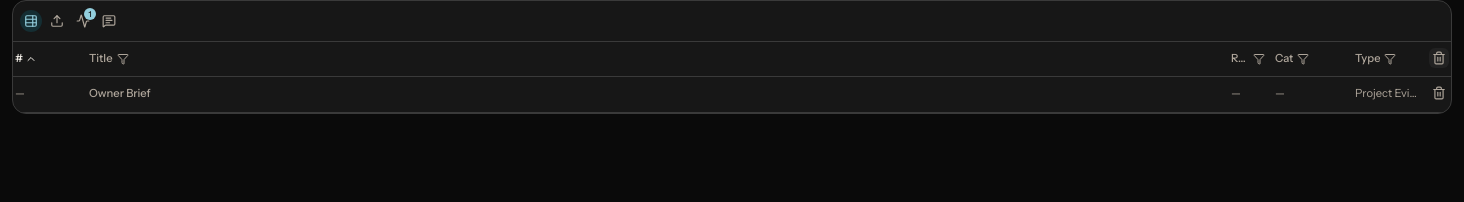
DocumentRepositoryPanel project pulse › hides pulse items again when the icon is toggled off
Click the button named "correspondence" at (83, 21), box 71,9 -> 95,33
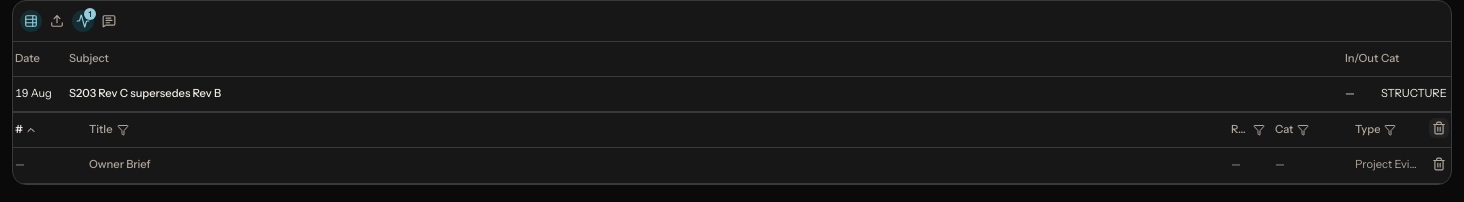
Click the button named "correspondence" at (83, 21), box 71,9 -> 95,33
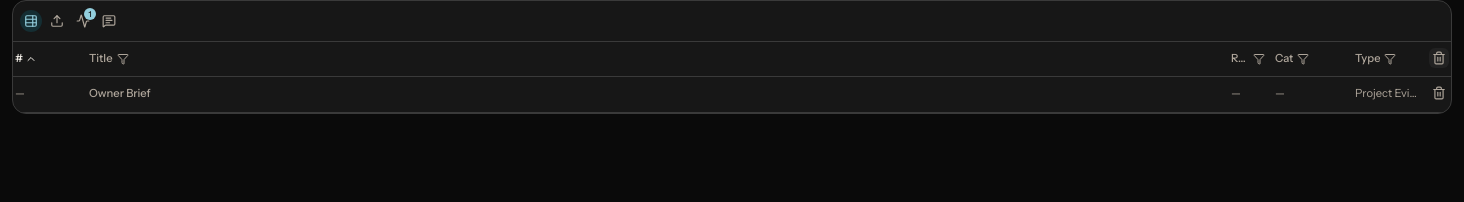
Check: the text "Owner Brief" is shown, box 89,86 -> 151,100
Check: the element with test id "project-pulse" is gone
